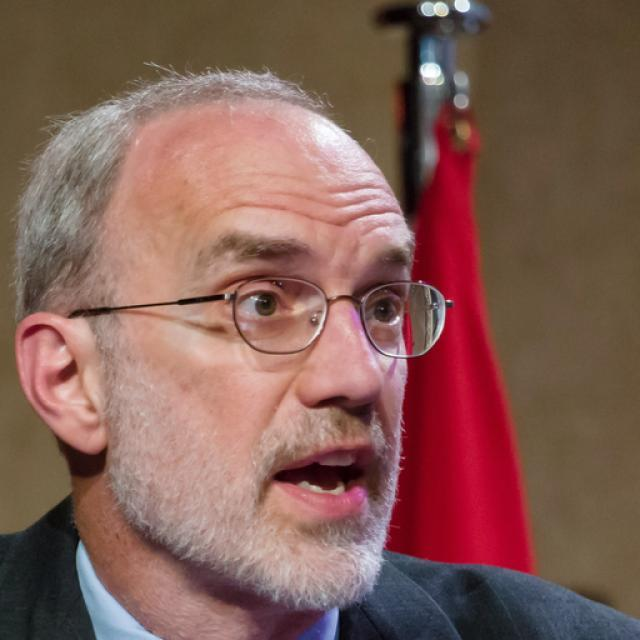surprise: (108, 104, 412, 606)
